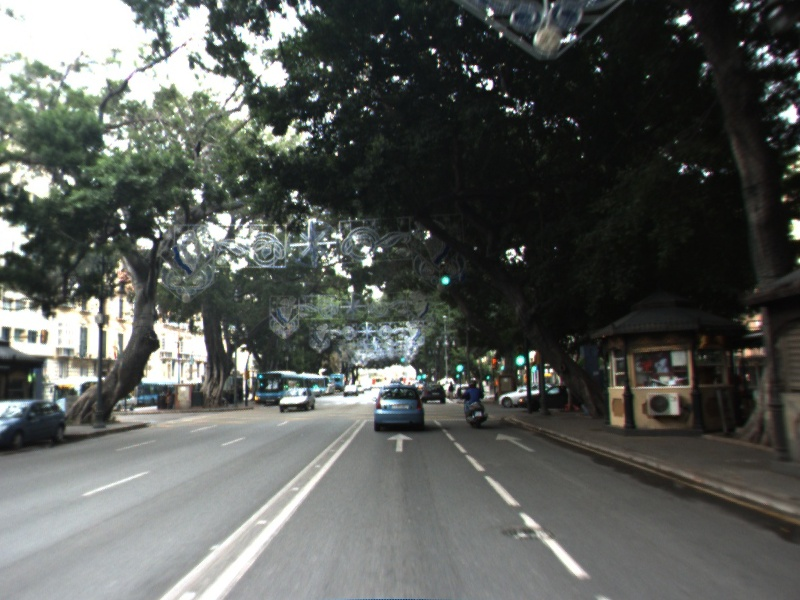STRAIGHT: (494, 431, 539, 454), (385, 431, 416, 454)
